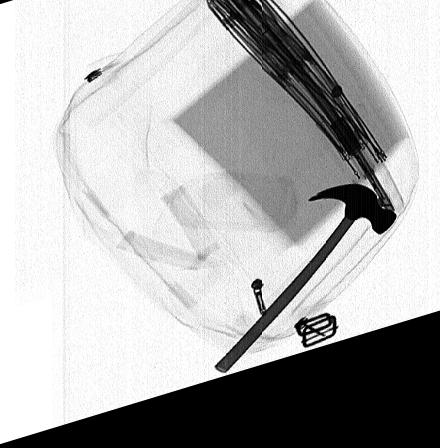Hammer: (213, 205, 397, 387)
